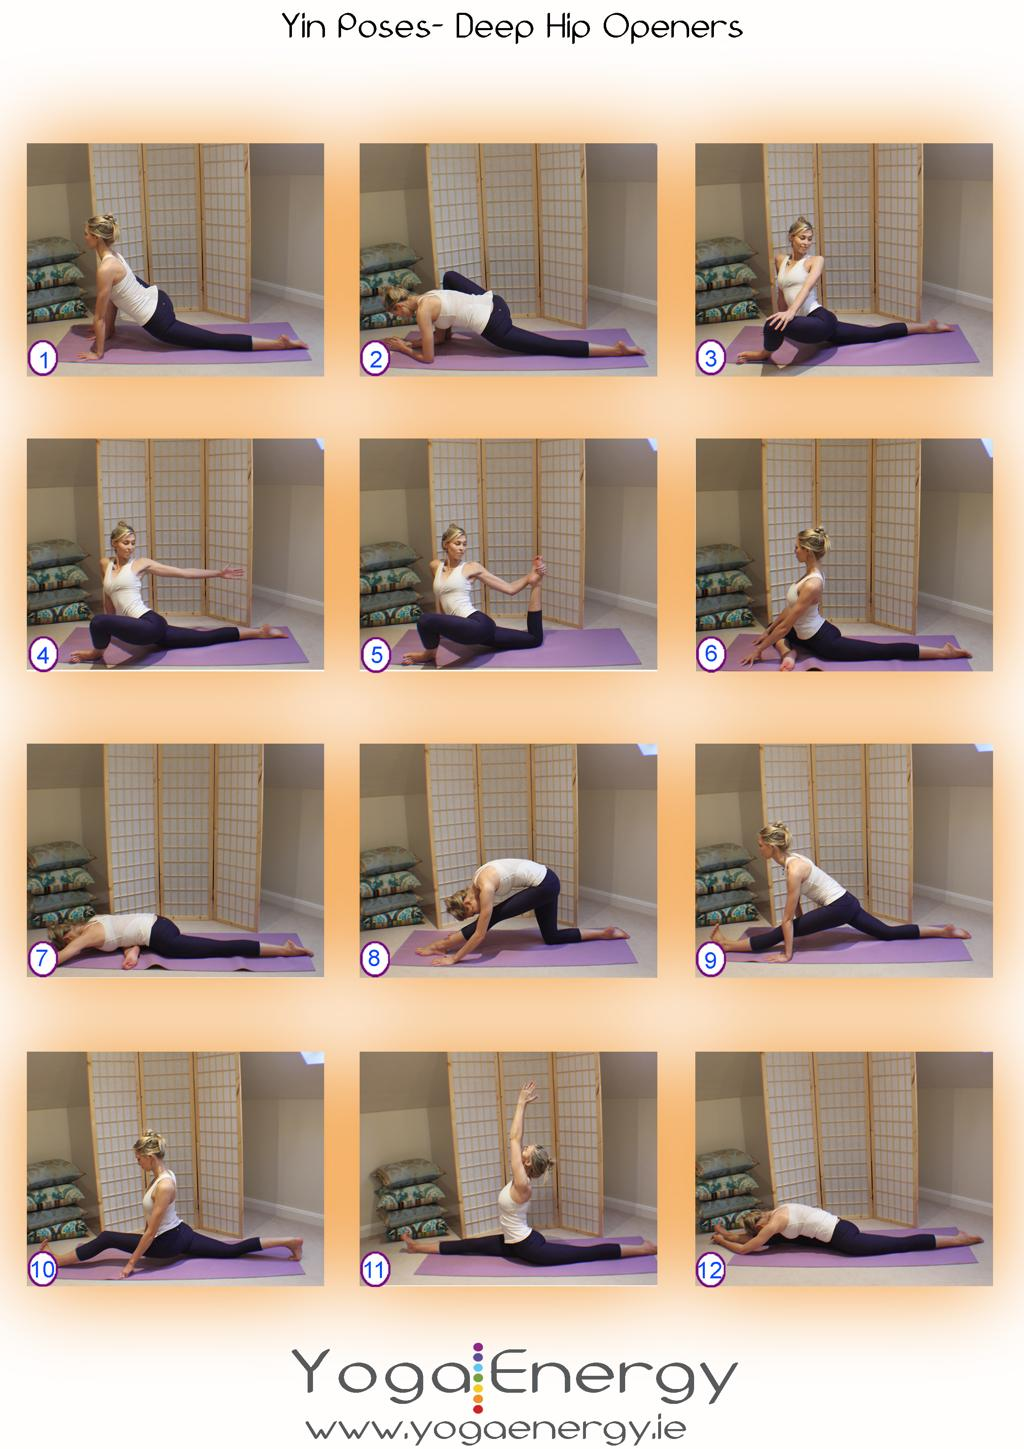face: (116, 533, 136, 558), (448, 534, 466, 559), (793, 229, 812, 253), (517, 1146, 532, 1170), (757, 836, 770, 858), (135, 1149, 149, 1171), (463, 905, 484, 917), (794, 538, 805, 561), (84, 229, 95, 248), (58, 939, 81, 948), (391, 307, 411, 317), (754, 1230, 773, 1236)
